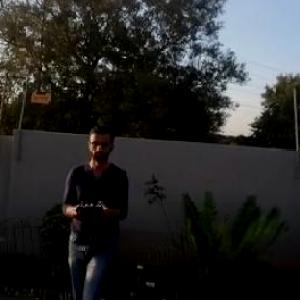follow: (57, 132, 136, 299)
